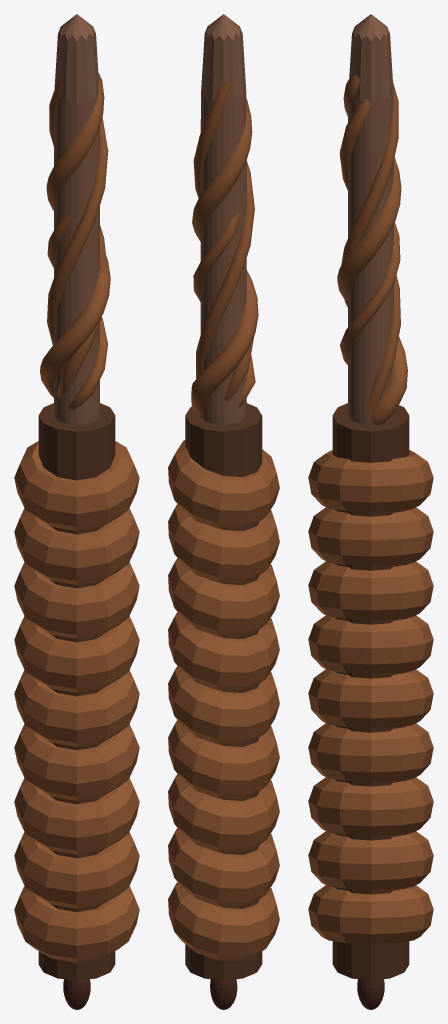
File: Wand 476.glb
3 renders of one model, left to right at view 1: azimuth 90°, elevation 25°; view 2: azimuth 150°, elevation 25°; view 3: azimuth 270°, elevation 25°, orthographic.
Visible parts, largest first — view 1: GeneratedWand; view 2: GeneratedWand; view 3: GeneratedWand.
Part boxes in pixels (left/top/right/bottom): GeneratedWand: left=14, top=14, right=139, bottom=1009; GeneratedWand: left=168, top=14, right=279, bottom=1009; GeneratedWand: left=308, top=14, right=433, bottom=1009.
Size of the model in its own units: 0.0497 by 0.5088 by 0.0581.
